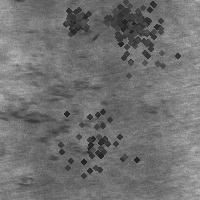rolled-in_scale: (1, 62, 103, 162), (45, 92, 145, 192), (98, 1, 172, 75), (96, 0, 166, 56), (27, 21, 102, 56), (99, 0, 141, 41), (53, 0, 93, 40)
